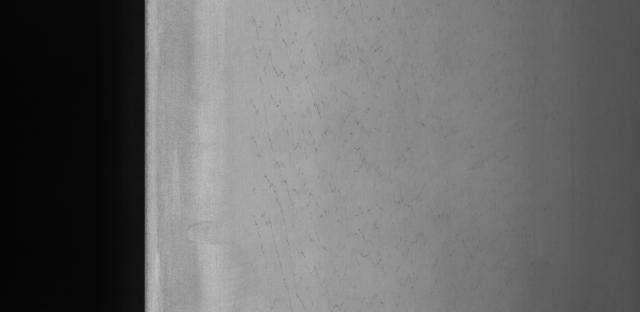silk_spot: (252, 71, 346, 241)
